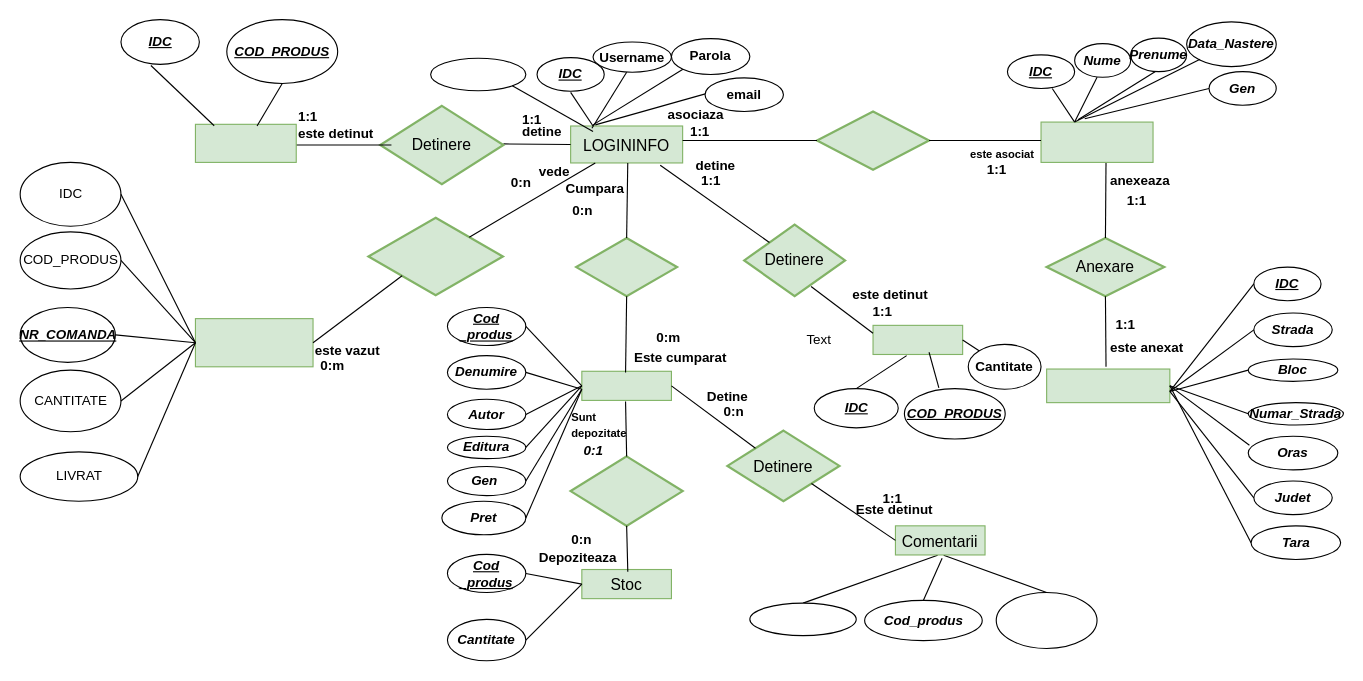
The diagram is 1363 pixels wide and 681 high, and some of its shapes have lost their labels. The shapes that lost their labels are listed below. From the top down, each one's centre as x and y in pixels, then its label:
the point at 478,74: Tip
the point at 245,142: Favorite
the point at 872,140: Asociere
the point at 1096,141: USERSINFO
the point at 435,256: Vedere
the point at 626,266: Cumparare
the point at 253,342: Comenzi
the point at 917,339: Cos
the point at 626,385: Produse
the point at 1108,385: DetaliiLivrare
the point at 626,490: Depozitare
the point at 802,619: ID_Com
the point at 1046,619: Comentariu
